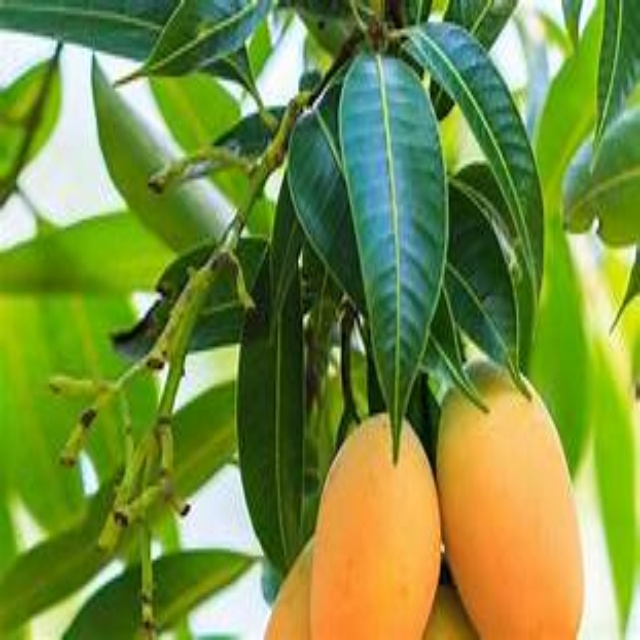mango: (436, 363, 593, 638), (312, 406, 441, 638)
